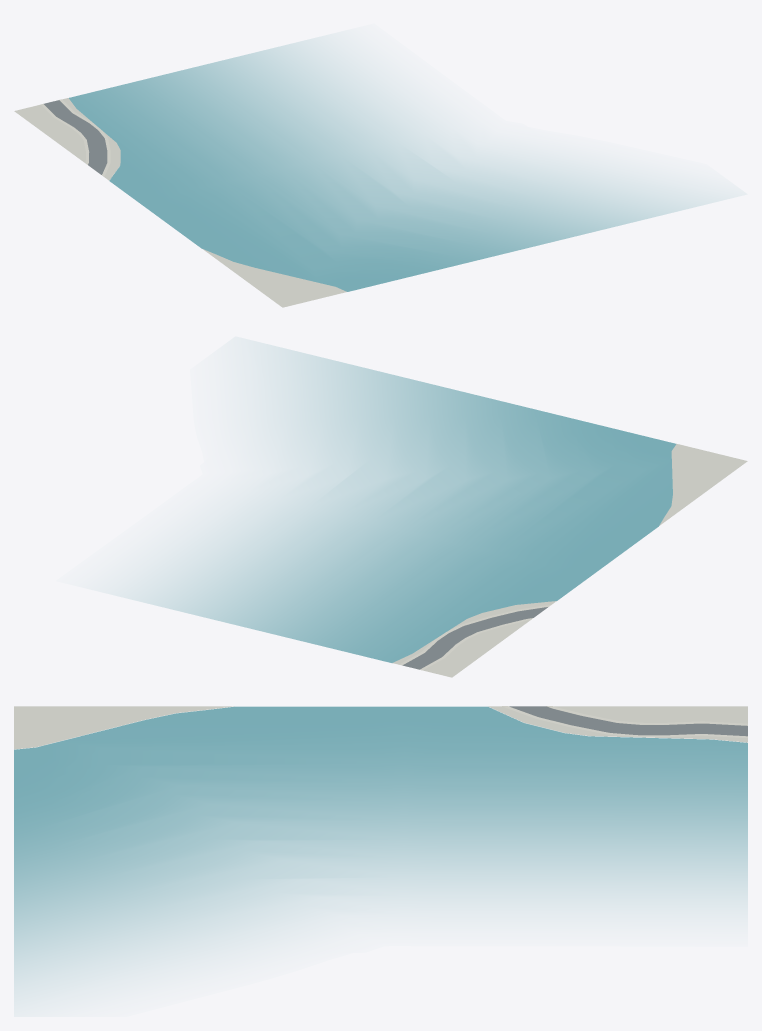
The picture shows the model from 3 angles, top to bottom: view 1: azimuth 30°, elevation 25°; view 2: azimuth 150°, elevation 25°; view 3: azimuth 270°, elevation 25°; orthographic projection. The views are drawn at different scales.
Visible parts, largest first — view 1: city; view 2: city; view 3: city.
Boxes of the visible parts, box(x1,y1,x2,y2) form: city: box(14, 37, 726, 307); city: box(117, 342, 747, 677); city: box(14, 706, 747, 1003).
Size of the model in its own units: 500 by 0.4 by 500.
